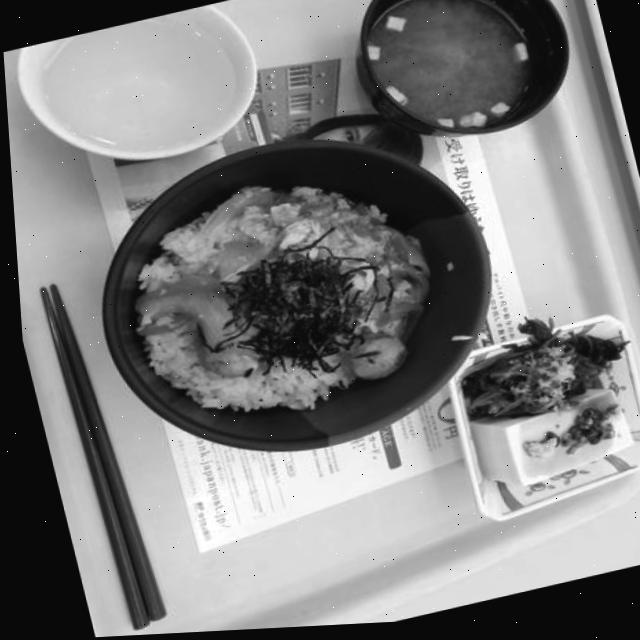汤锅炖物: (329, 0, 587, 166)
豆腐料理: (449, 380, 640, 518)
